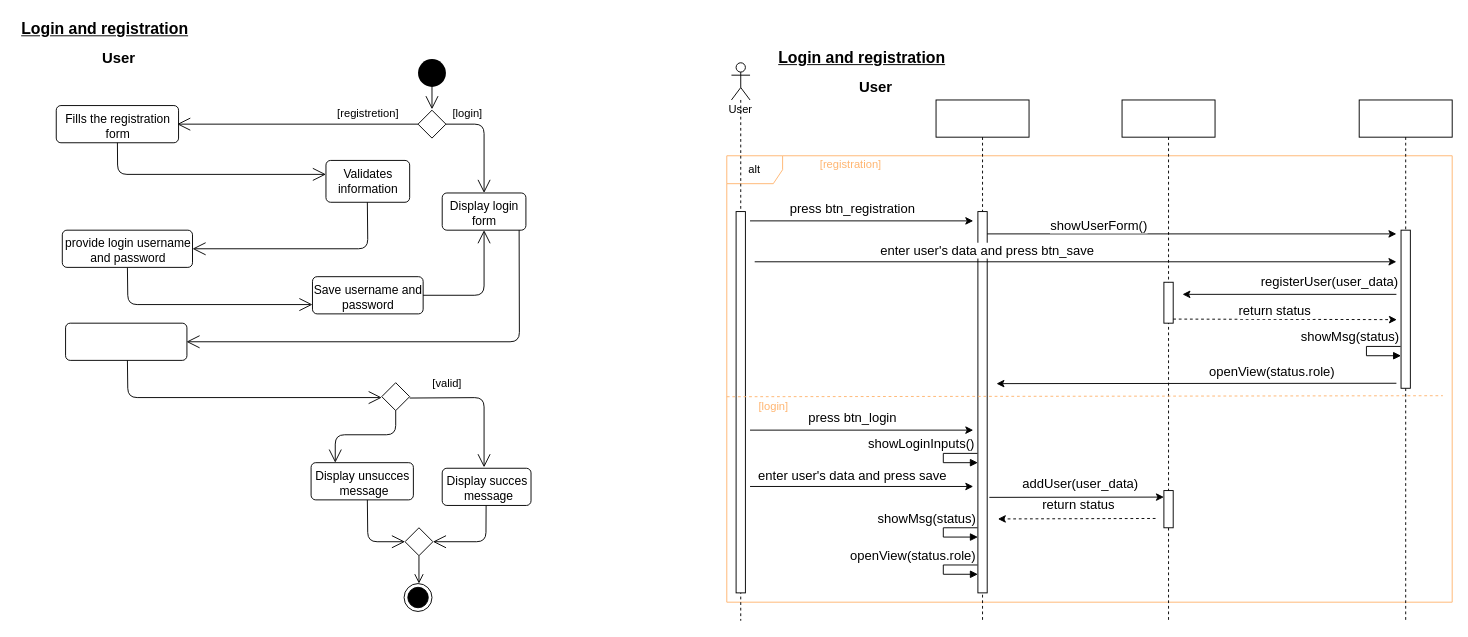
The diagram is 1468 pixels wide and 637 high, and some of its shapes have lost their labels. The shapes that lost their labels are listed below. From the top down, each one's box as (x1, y1, x2, y2) in pixels, then its label:
(65, 322, 187, 360): Enter username and password
(935, 99, 1029, 621): ViewMain
(1121, 99, 1215, 621): Database
(1358, 99, 1452, 621): ViewMain: UserForm
